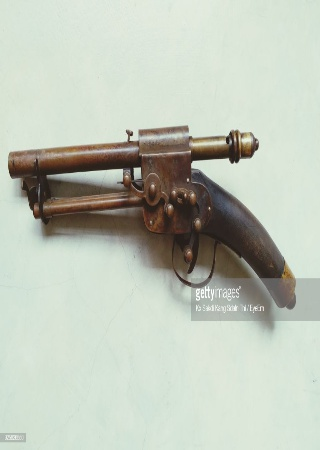handgun: (10, 128, 298, 316)
